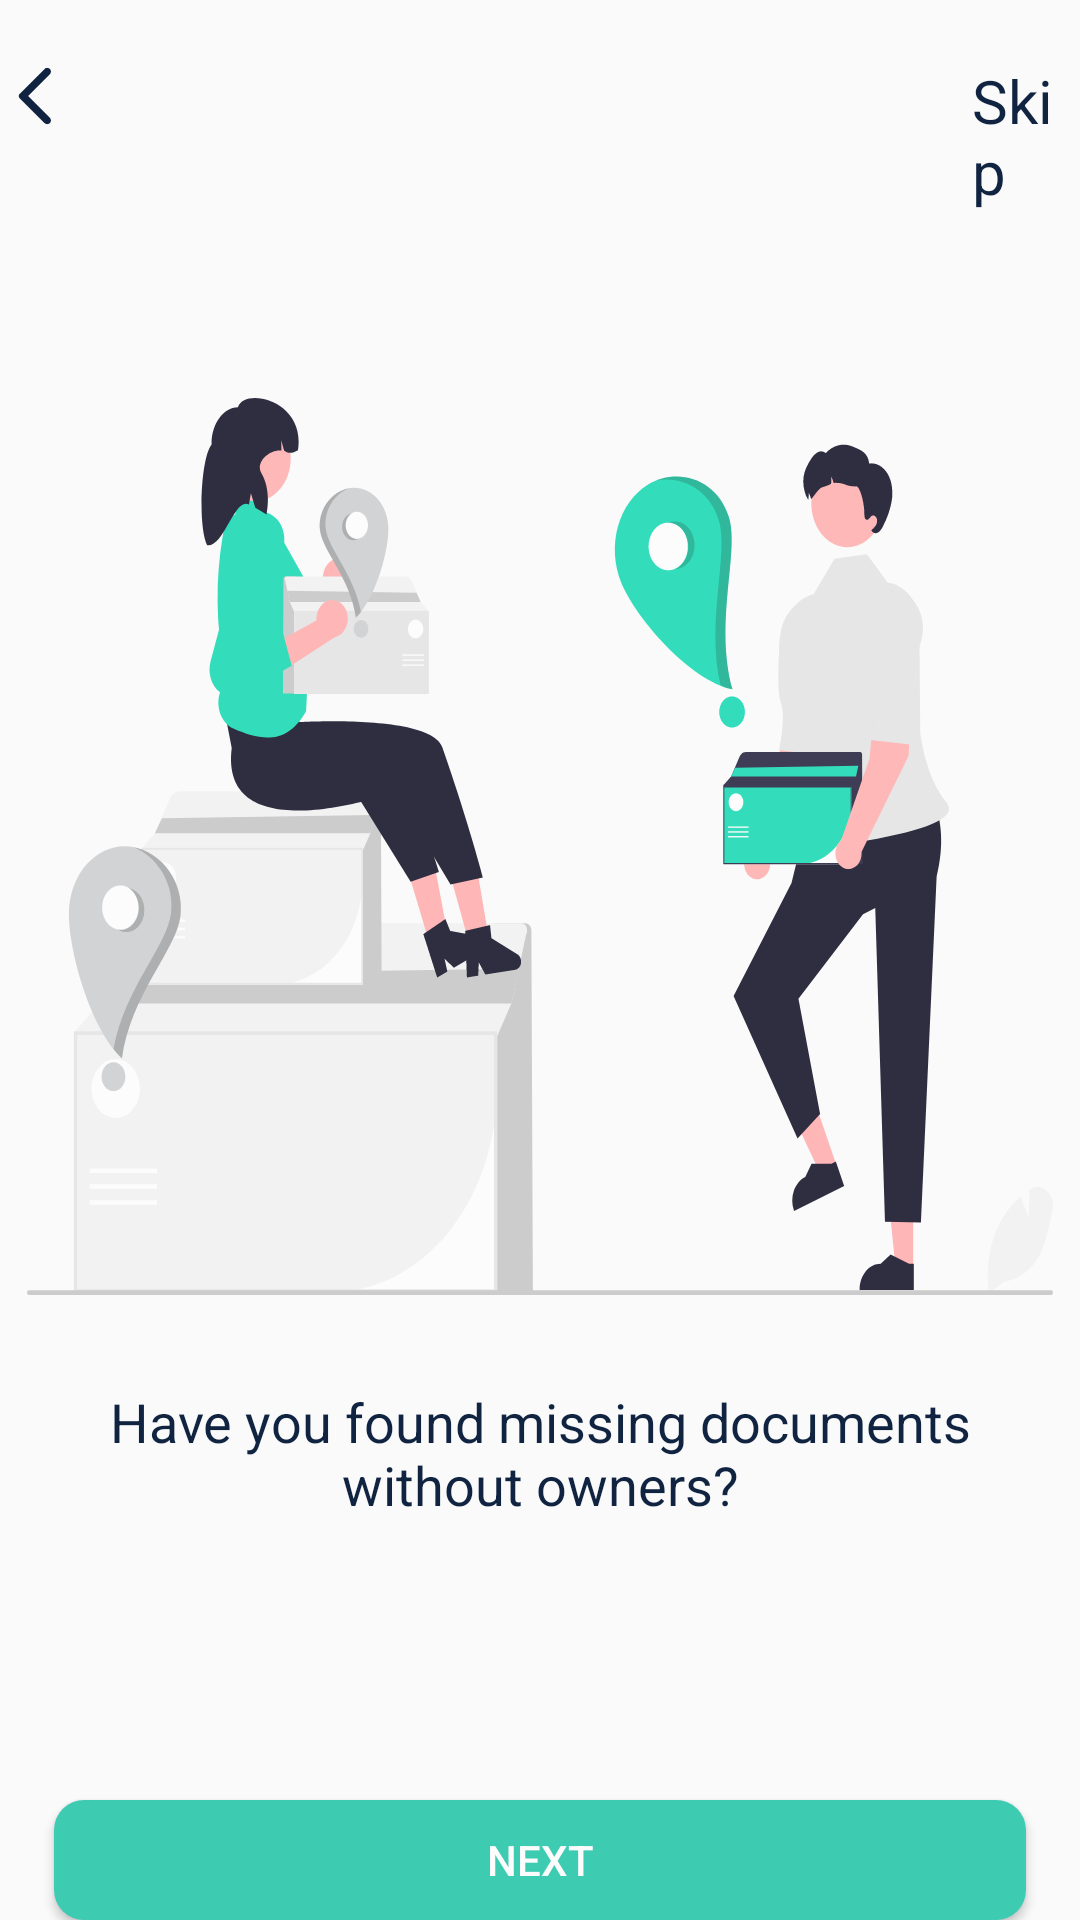

Locate icon controls on the screen. Image size 1080 x 1920, boxes as (x1, y1, x2, y2).
back: (18, 68, 51, 125)
